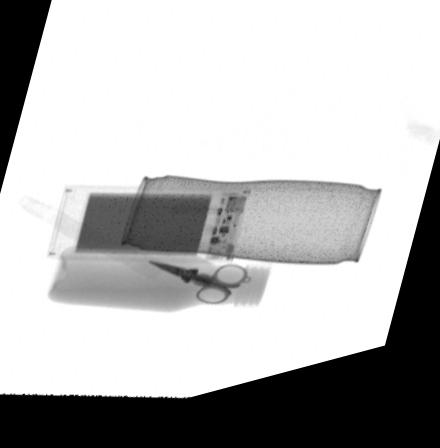Powerbank: (46, 188, 256, 276)
Scissors: (142, 267, 250, 316)
